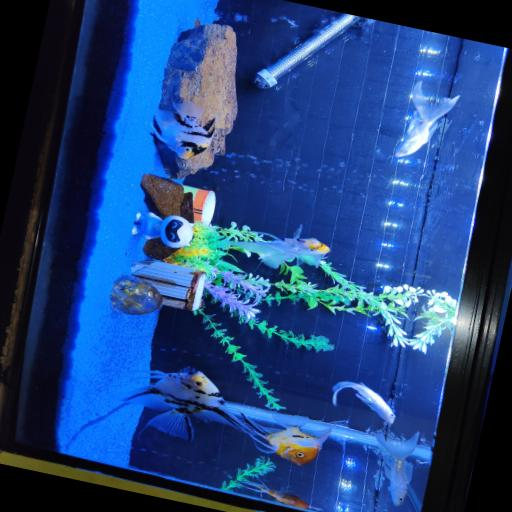Fish: (113, 367, 248, 440), (243, 413, 344, 465), (394, 80, 458, 156), (218, 224, 329, 267), (151, 102, 215, 158), (375, 432, 418, 504), (233, 478, 320, 509), (332, 380, 394, 422)
